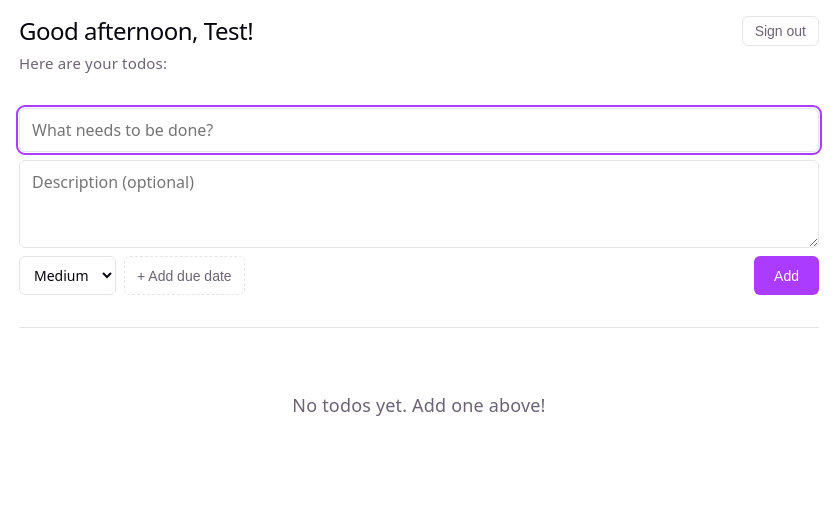
TodoPage › creates a new todo
The image size is (839, 507).
Expected: the text "No todos yet. Add one above!" is shown, [292,393,546,417]
Type "New todo" into the field with placeholder "What needs to be done?".
click(419, 130); type("New todo")  # box [19,108,819,152]
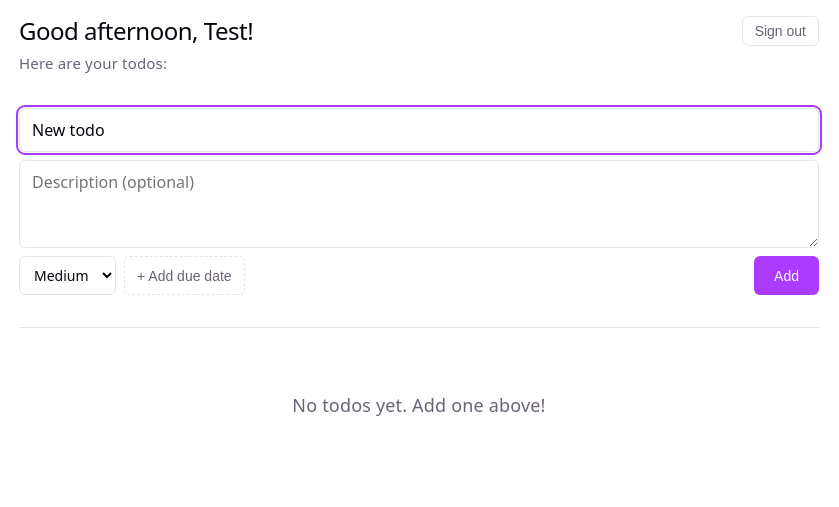
Click the button "Add".
click(787, 276)  # box [754,256,819,295]
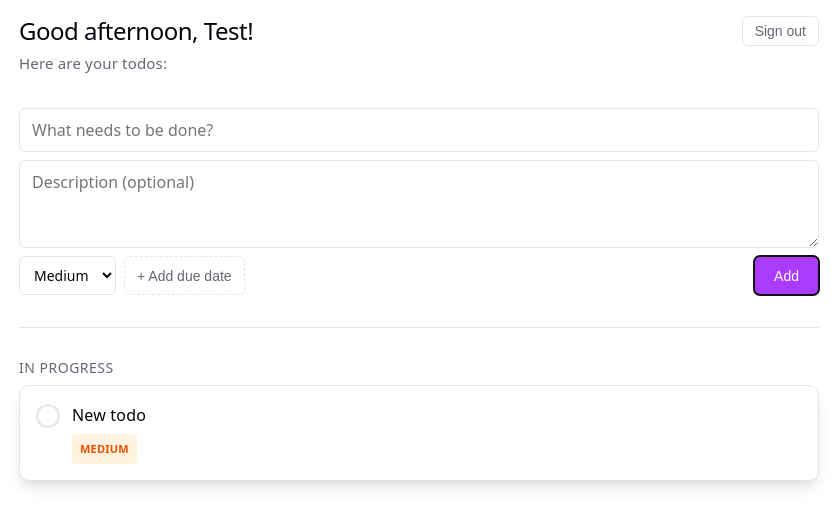
Expected: the text "New todo" is shown, [72,404,146,426]
